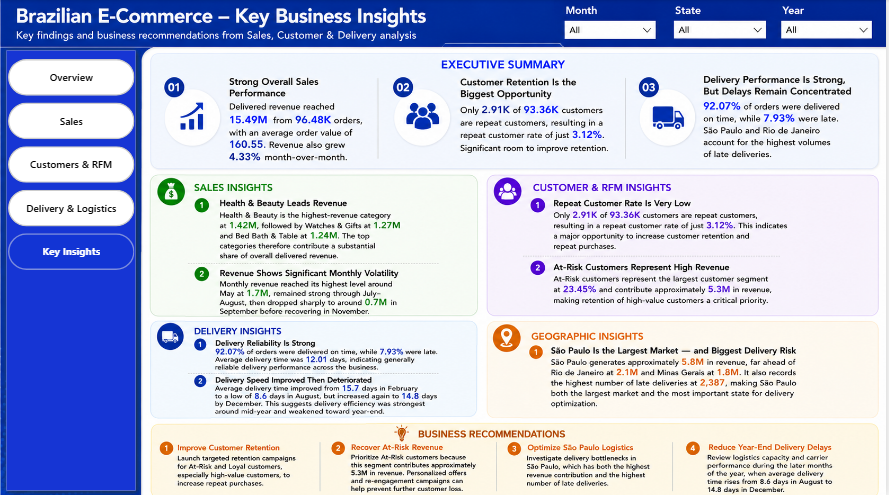

The page's visual inventory and layout, read from the dashboard file:
{"tool":"powerbi","page":{"name":"Key Insights","canvas":[1280,720],"ordinal":4},"visuals":[{"type":"shape","box":[0,65.4,205.3,654.9],"z":0},{"type":"pageNavigator","box":[11.6,87.2,183.1,305.1],"z":1000}]}

Visuals, with their boxes in screenshot pixels (x1, y1, x2, y2), scaled from the page's 1280x720 canvas onto the 889x495 screenshot:
shape: box=[0, 45, 143, 494]
pageNavigator: box=[8, 60, 135, 270]
